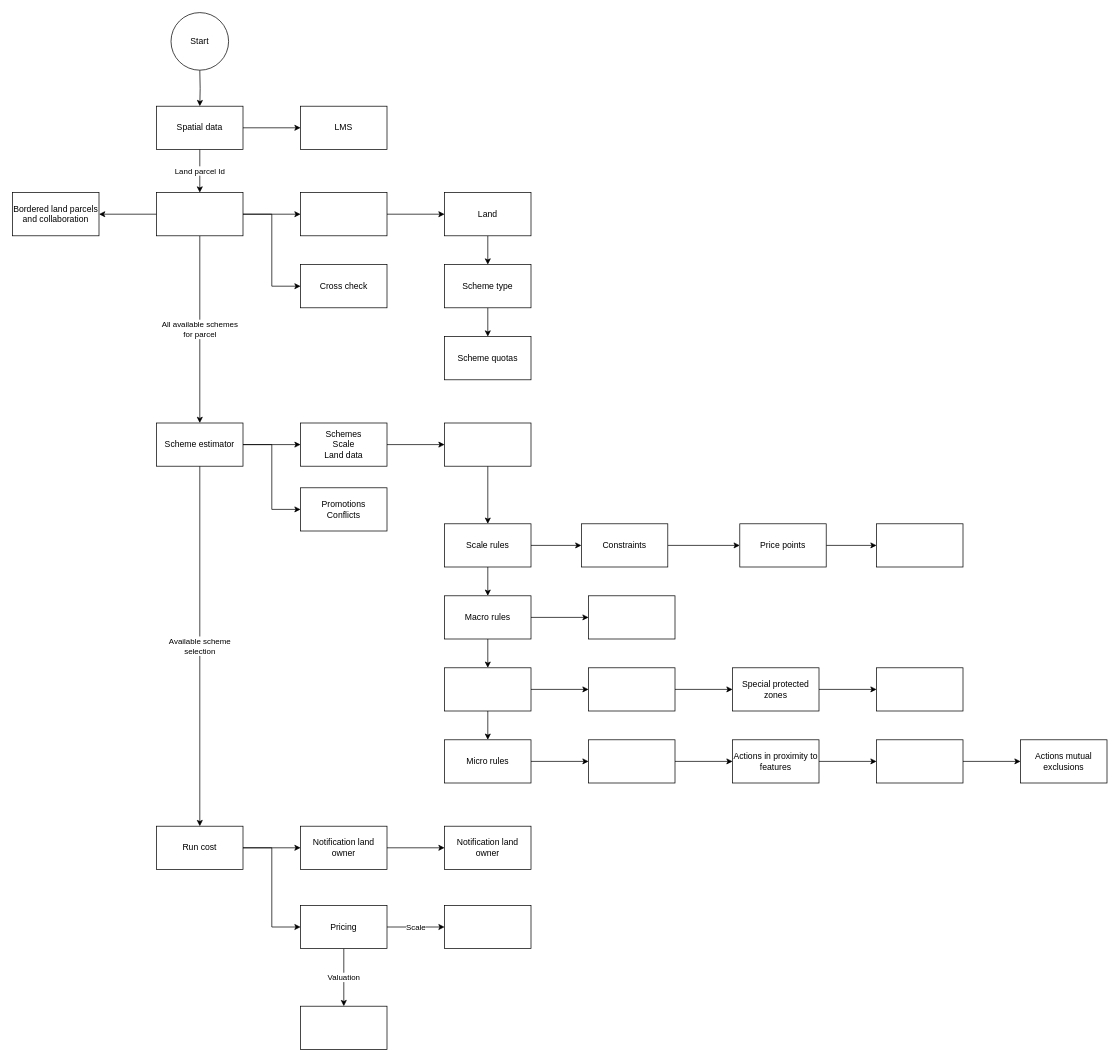
Some shapes in this 1120 by 1062 pixel diagram are drawn without their labels. The centre of each missing label's shape, as x and y in pixels:
"(Blended price point Prince range) x Quantity" goes at point 343,1027.
"Actions in adjacent parcels" goes at point 631,761.
"Actions in catchment area" goes at point 919,761.
"Apply rules" goes at point 487,444.
"Choose scheme" goes at point 199,214.
"Filter" goes at point 343,214.
"Medio rules" goes at point 487,689.
"National character zones" goes at point 631,617.
"Price x land area x promotion" goes at point 487,927.
"Quota" goes at point 919,545.
"Sites of specific scientific interest" goes at point 919,689.
"Special conservation zones" goes at point 631,689.
